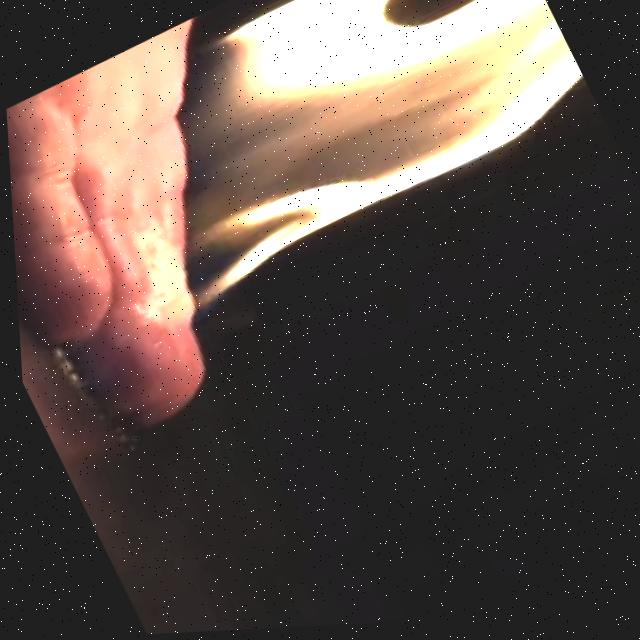Fire: (54, 0, 611, 338)
